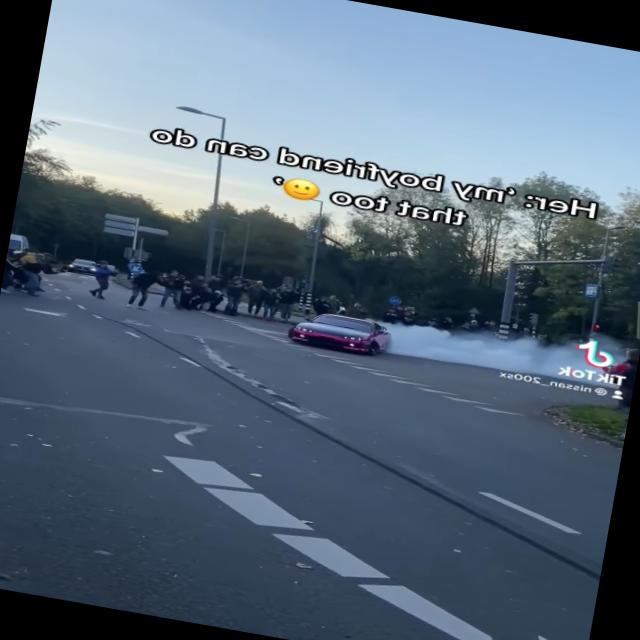car: (286, 304, 388, 365)
